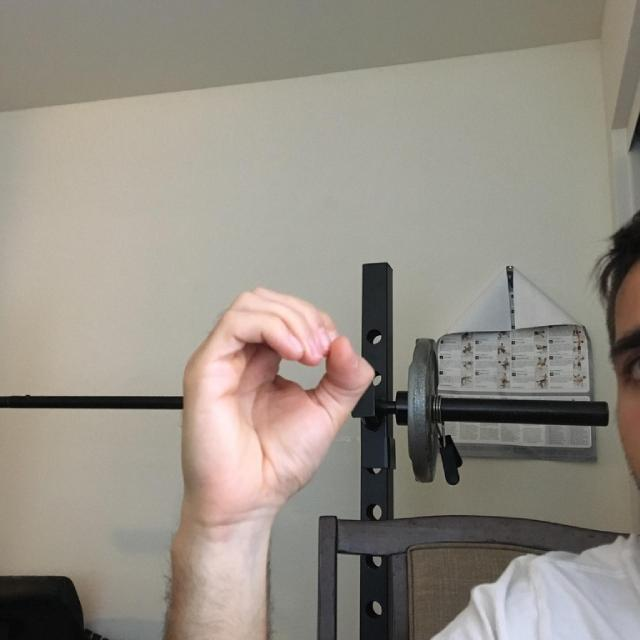O: (142, 249, 471, 556)
